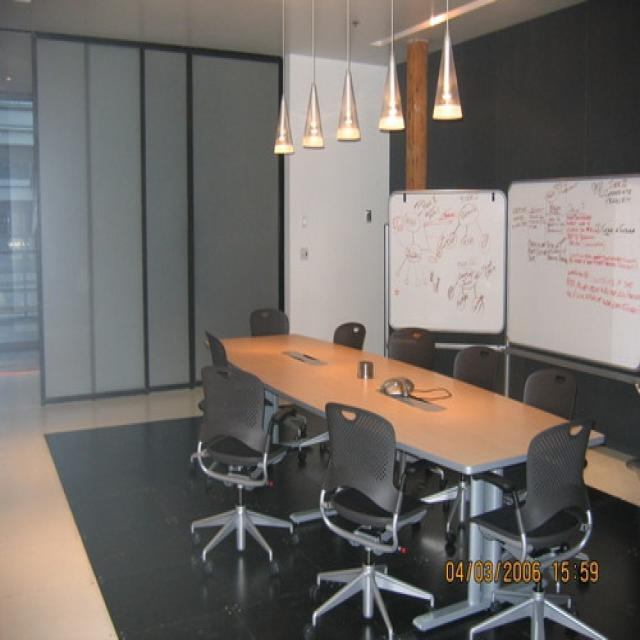2001: (0, 101, 40, 370)
area rug: (44, 404, 639, 638)
back of chair: (522, 364, 576, 418), (451, 343, 503, 393), (388, 326, 438, 369), (248, 304, 291, 338), (330, 317, 367, 350), (200, 328, 228, 362)
beam: (404, 39, 429, 189)
ceiling beam: (1, 0, 577, 63), (0, 29, 32, 99)
chair -occluded-: (303, 399, 436, 635), (188, 364, 303, 575)
chair legs: (306, 428, 325, 449)
chair occlluded: (422, 478, 470, 556)
chairs desk: (467, 415, 604, 637)
dry erase board: (504, 172, 636, 393), (390, 188, 506, 352)
floor -X: (1, 372, 198, 638), (584, 447, 639, 502)
light fixture: (429, 17, 463, 119), (335, 17, 361, 140), (271, 17, 294, 155), (300, 19, 324, 150), (376, 19, 402, 131)
light switch: (297, 244, 310, 261), (364, 207, 372, 224)
object: (378, 374, 453, 399), (353, 357, 375, 379)
table -X: (223, 333, 602, 631)
table occluded: (287, 507, 320, 524)
wall clock: (29, 34, 389, 408), (387, 0, 639, 454)
